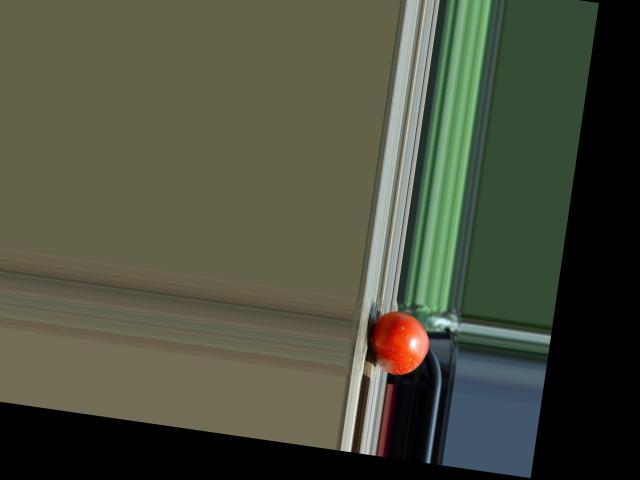tomato: (367, 307, 433, 378)
